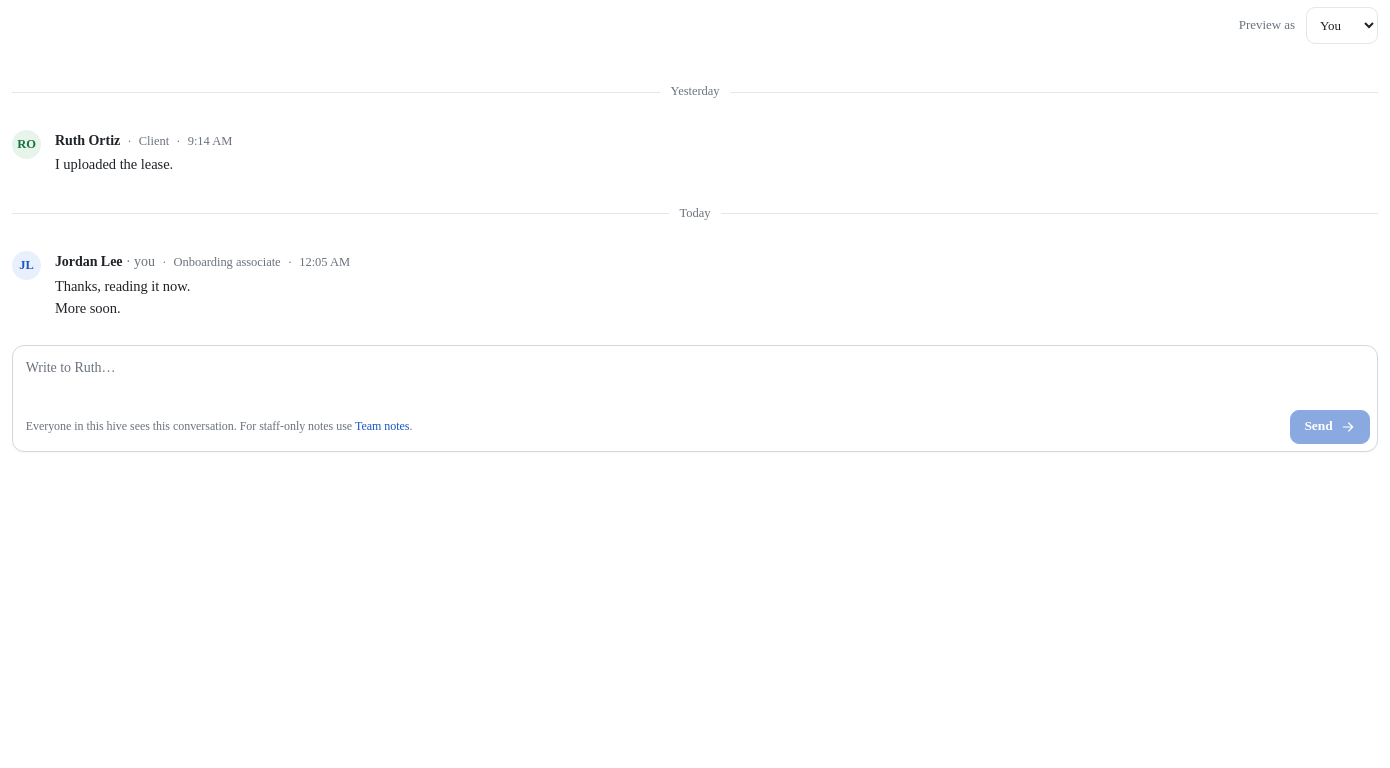
Test: HiveConversation › hides Try again for a failure that is not retryable
In the text box named "Message": (695, 375) [13,346,1377,404], type "Hi"
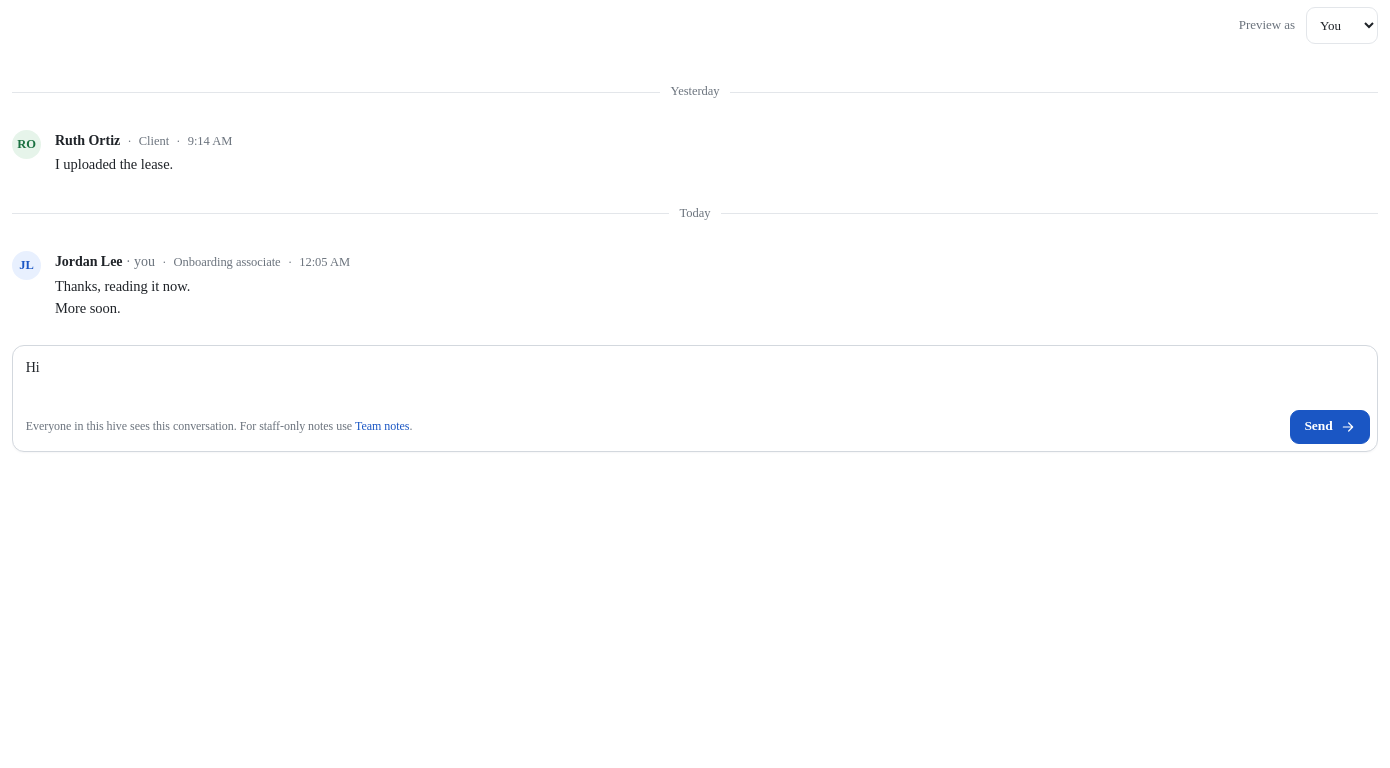
Press Enter in the text box named "Message", box [13,346,1377,404]
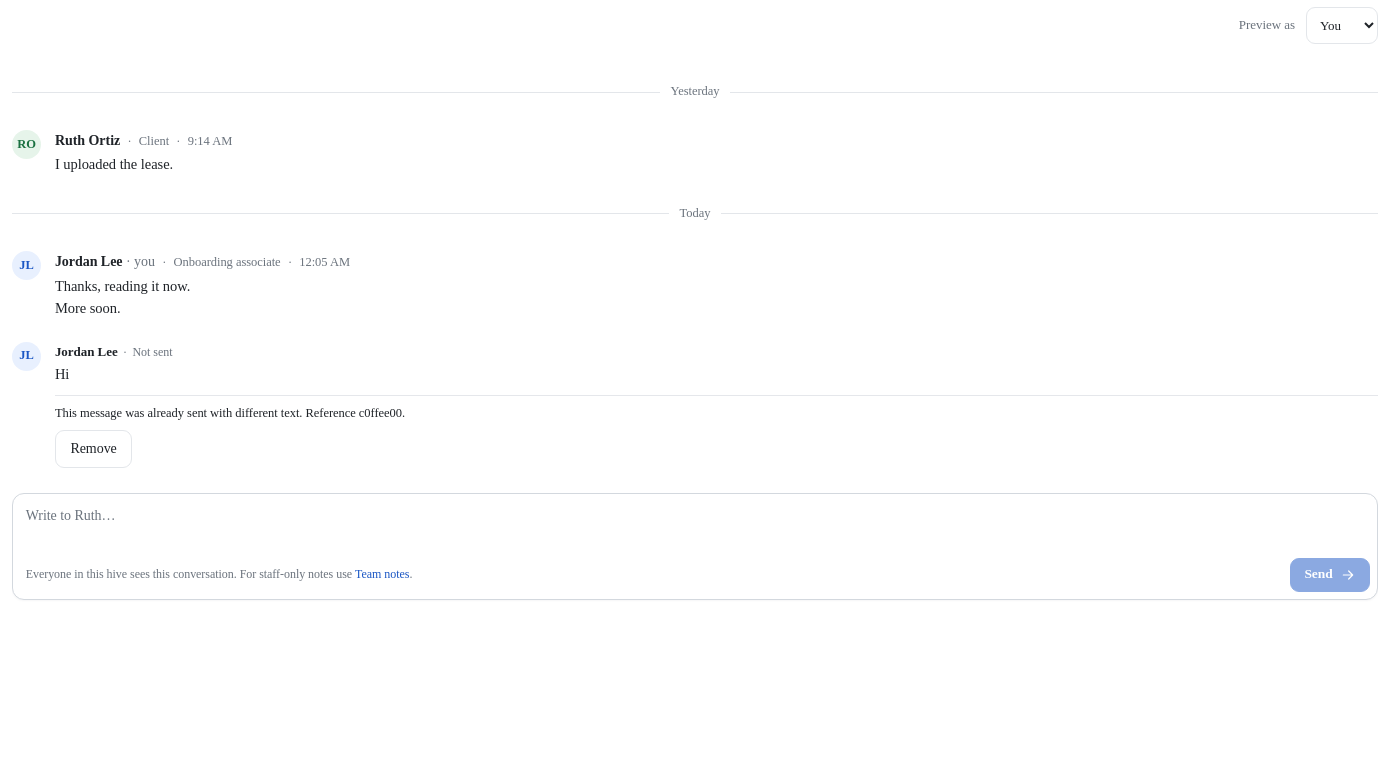
Expected: the text "Not sent" is shown, [132,342,172,361]
Expected: the button "Remove" is shown, [55,430,132,468]
